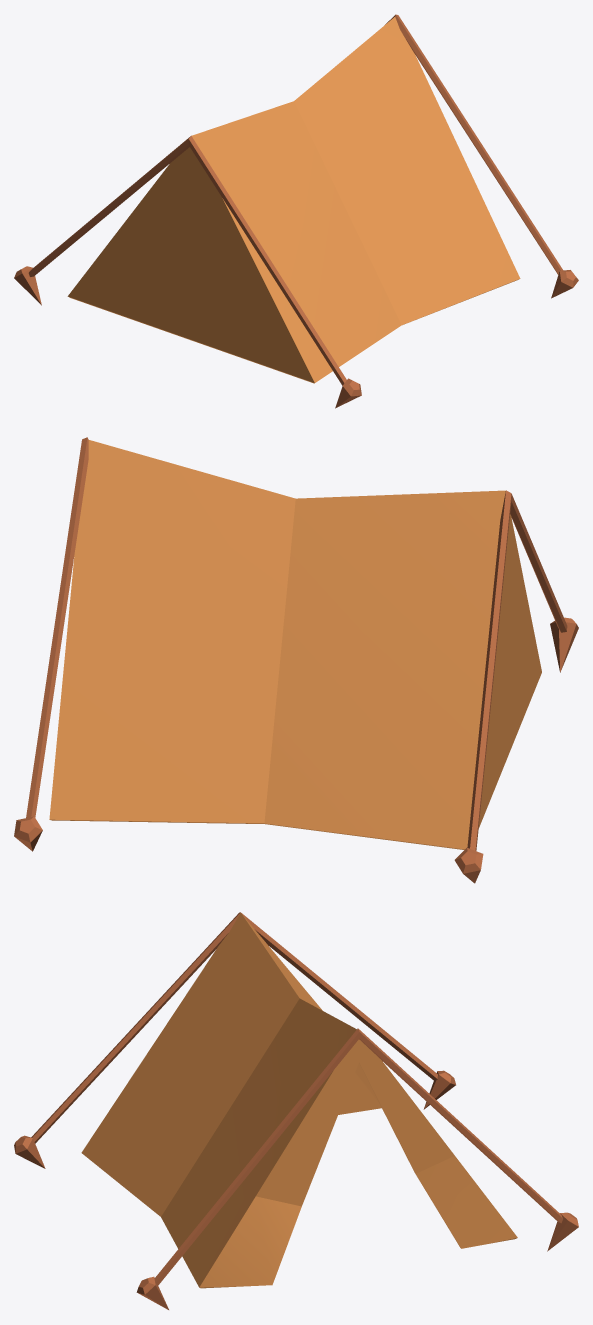
File: tent.fbx
3 views of the same model, one above another, from view 1: azimuth 30°, elevation 25°; view 2: azimuth 150°, elevation 25°; view 3: azimuth 270°, elevation 25° (orthographic). The views are drawn at different scales.
Visible parts, largest first — view 1: Tent_Cube.001; view 2: Tent_Cube.001; view 3: Tent_Cube.001.
Boxes of the visible parts, x1,y1,x2,y2 form: Tent_Cube.001: [14, 14, 578, 408]; Tent_Cube.001: [14, 437, 578, 883]; Tent_Cube.001: [14, 912, 578, 1309].
Bounding box in the file's own units: 41.04 × 21.87 × 45.08.
